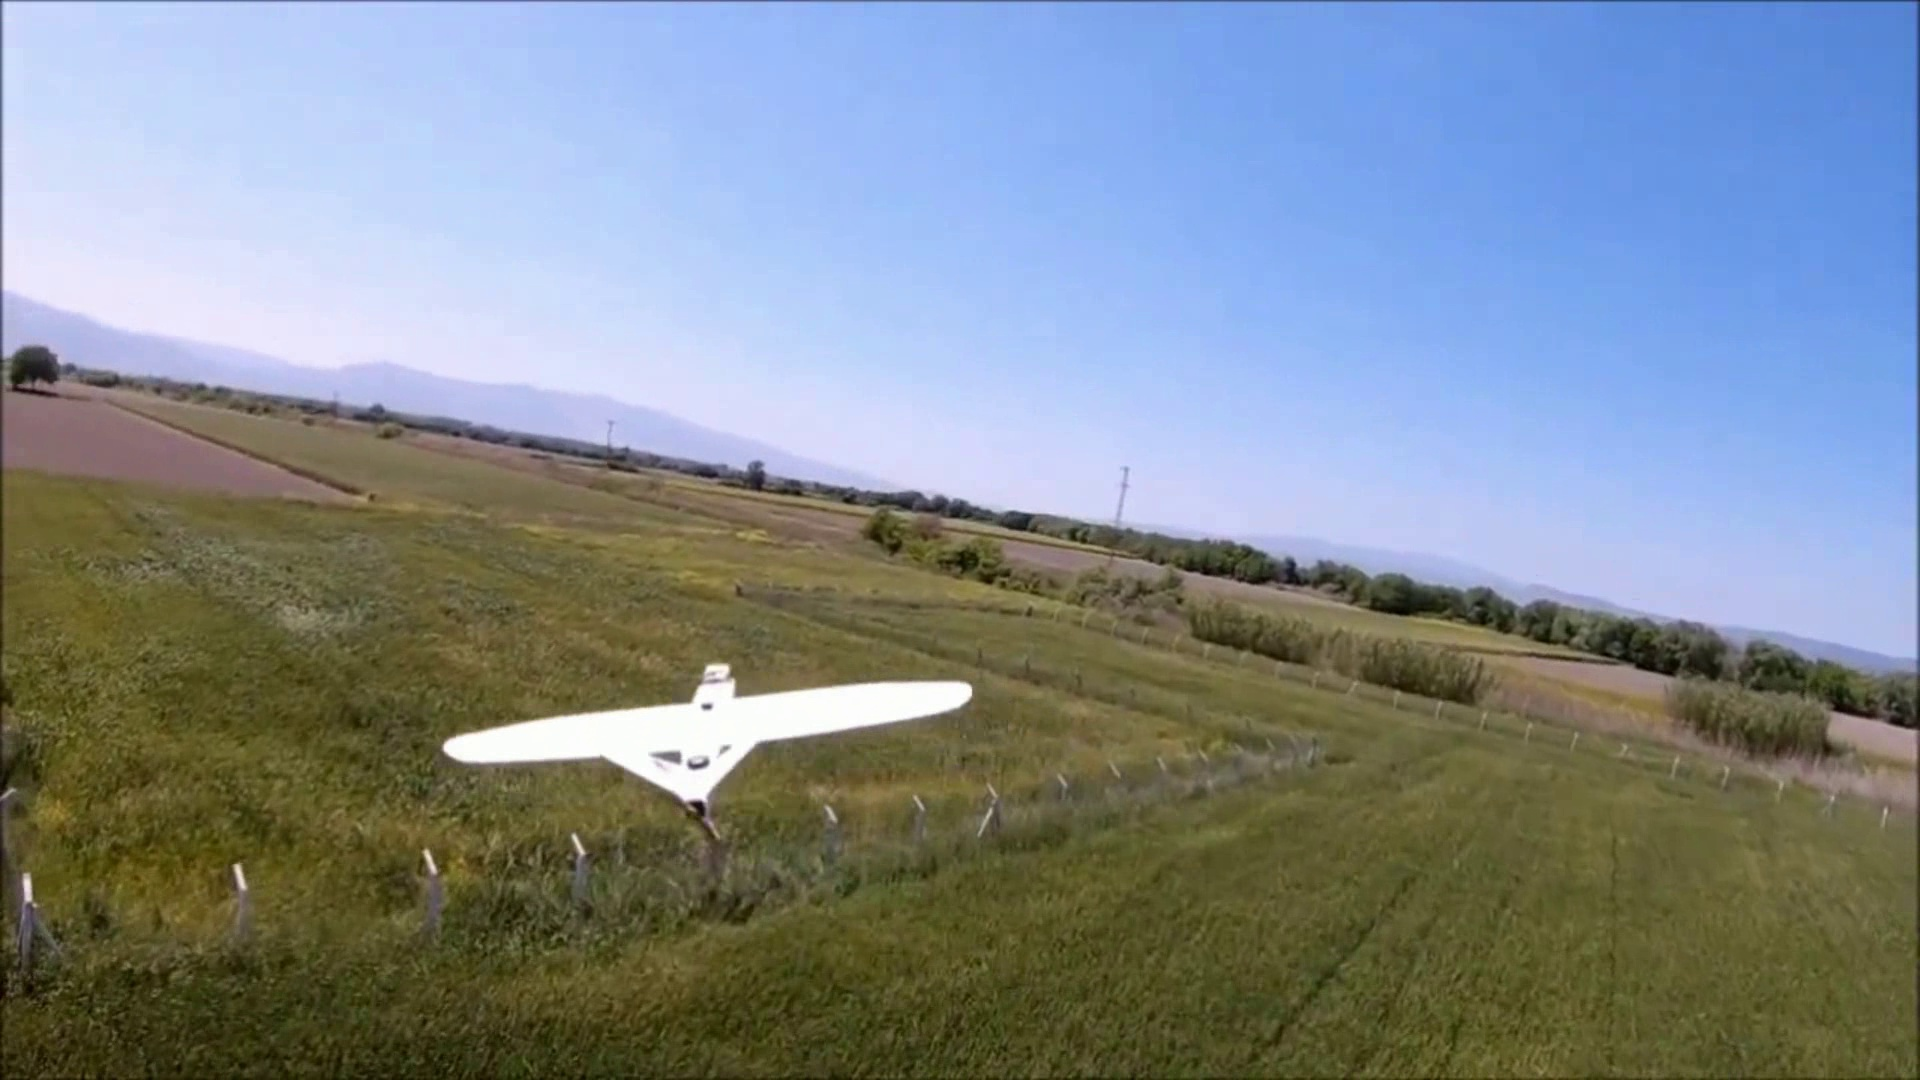airplane: (439, 664, 977, 838)
